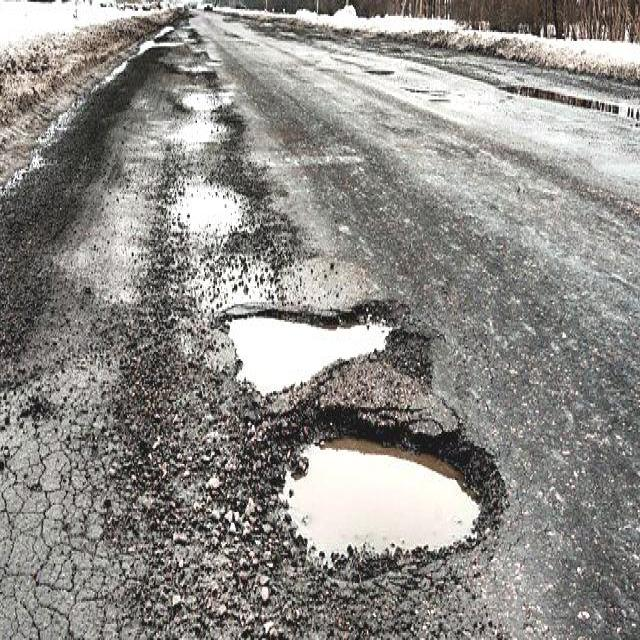pothole: (268, 412, 510, 585), (216, 292, 397, 401), (163, 175, 279, 314), (172, 116, 230, 156)
